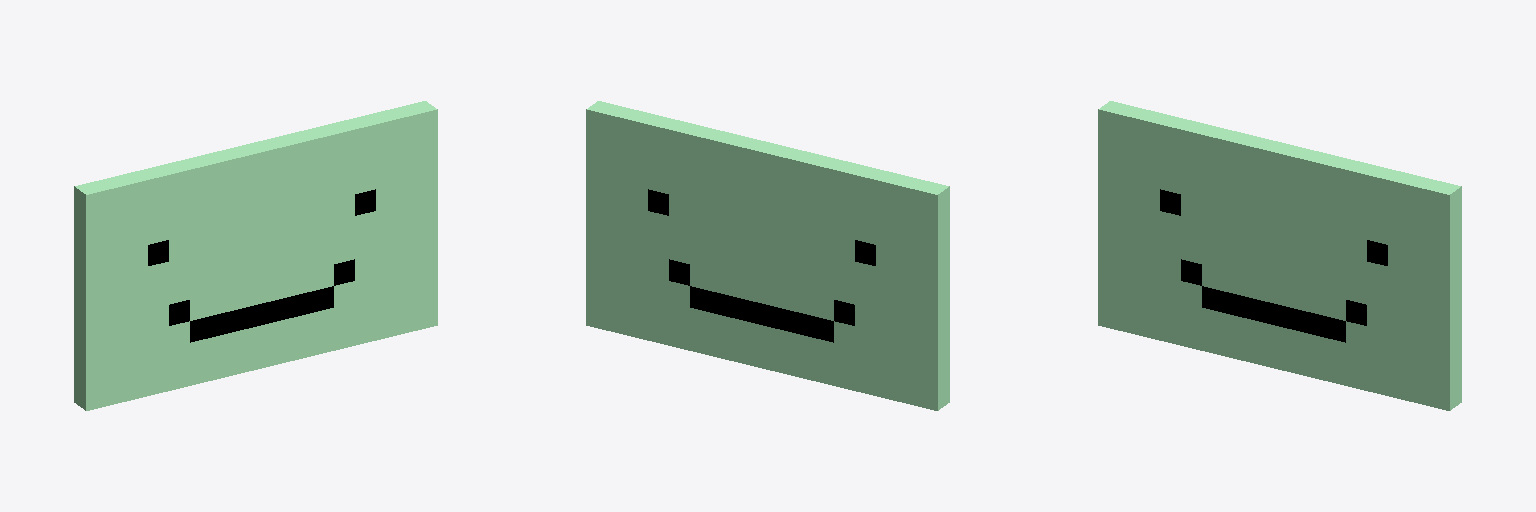
The picture shows the model from 3 angles: view 1: azimuth 30°, elevation 25°; view 2: azimuth 150°, elevation 25°; view 3: azimuth 330°, elevation 25°; orthographic projection.
Visible parts, largest first — view 1: object 1; view 2: object 1; view 3: object 1.
Part boxes in pixels (left/top/right/bottom): object 1: left=74, top=101, right=437, bottom=410; object 1: left=586, top=101, right=949, bottom=410; object 1: left=1098, top=101, right=1461, bottom=410.
Size of the model in its own units: 1.7 by 1 by 0.1.
1 materials, 1 textured.